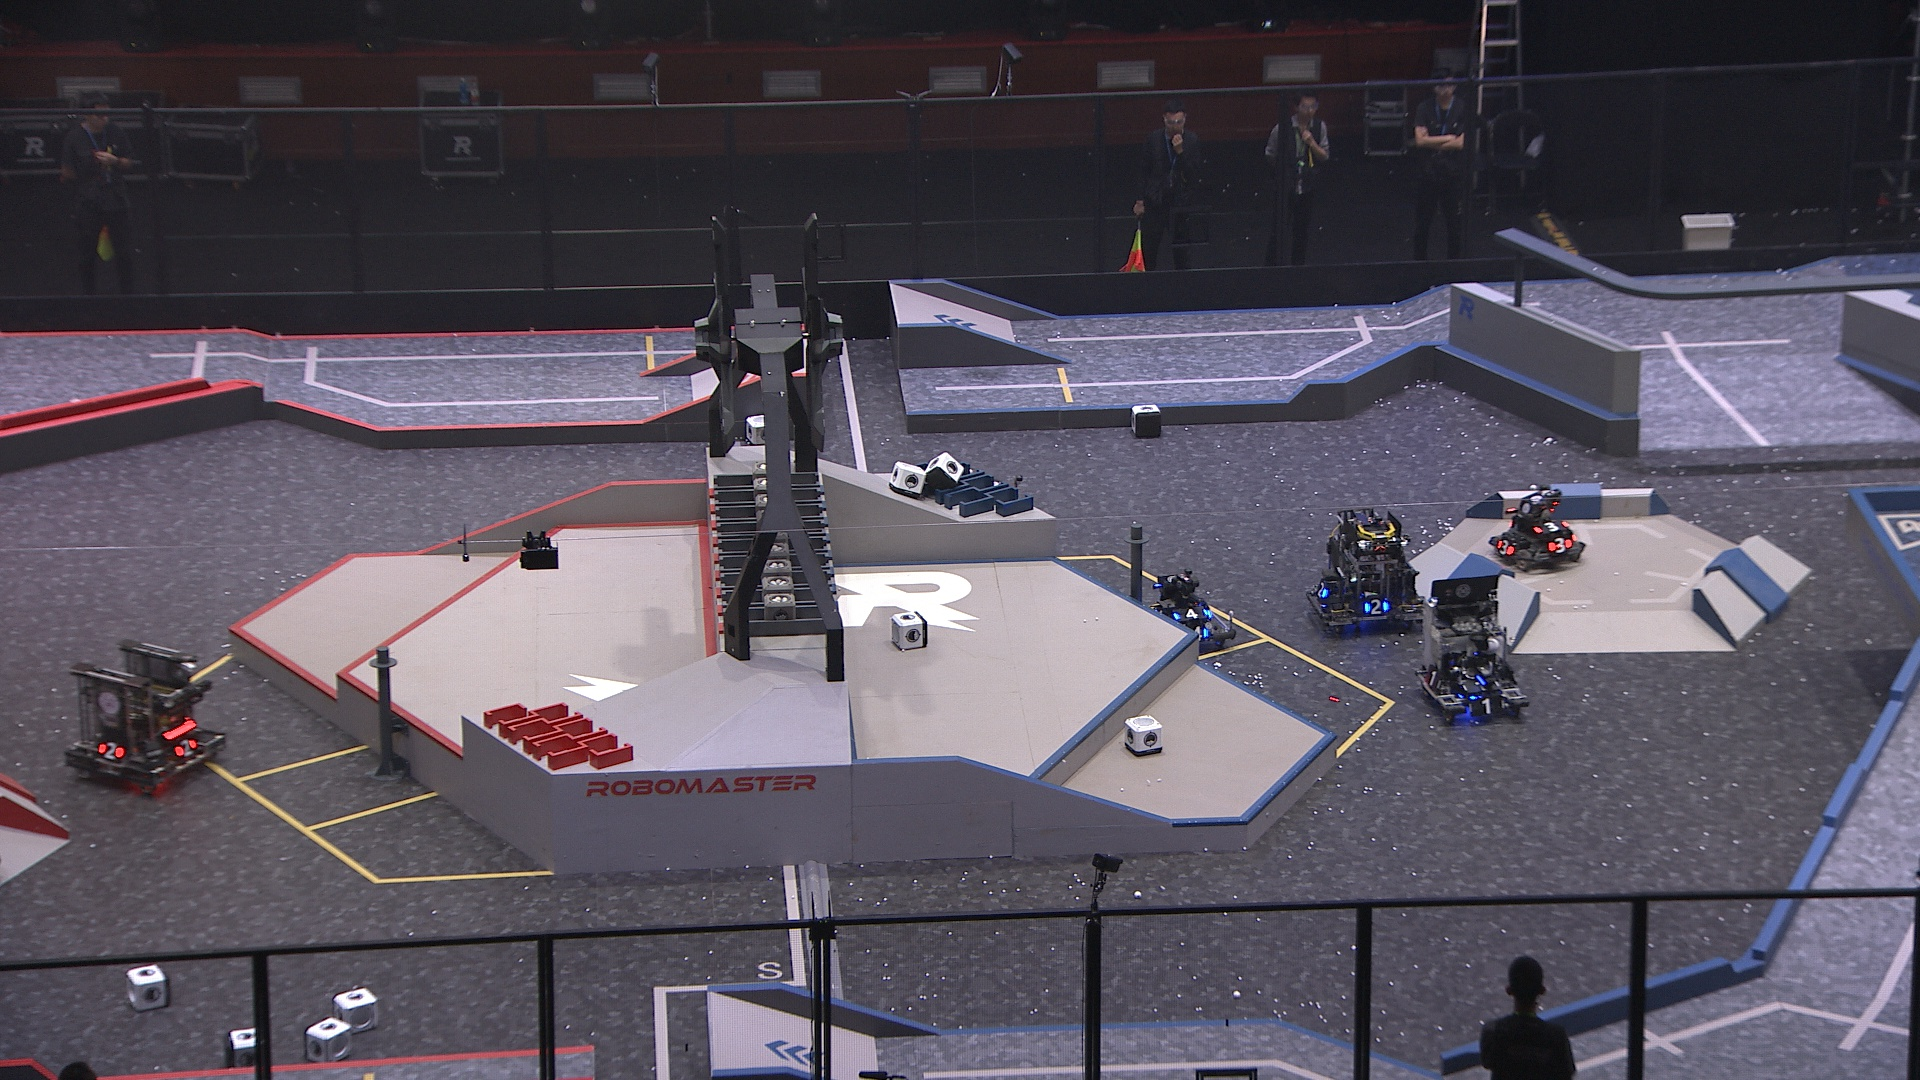armor: (1171, 605, 1215, 622), (1468, 694, 1505, 713), (96, 738, 125, 761), (1422, 665, 1443, 694), (1532, 520, 1567, 537), (1462, 676, 1499, 692), (173, 737, 196, 757), (1548, 537, 1575, 553), (1494, 537, 1513, 559), (1365, 599, 1387, 615), (1316, 578, 1329, 603), (1189, 626, 1211, 641)
car: (65, 640, 229, 790), (1408, 572, 1528, 721), (1305, 502, 1424, 632), (1490, 485, 1588, 571), (1145, 572, 1232, 659)
